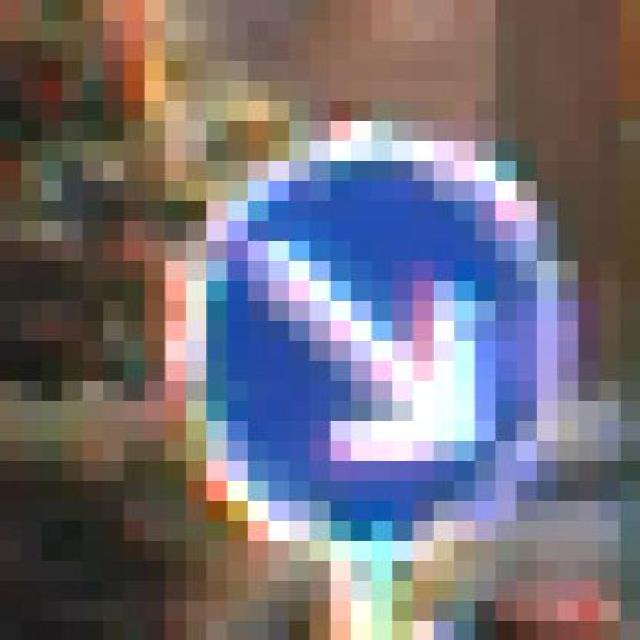Keep-Right: (124, 80, 599, 600)
